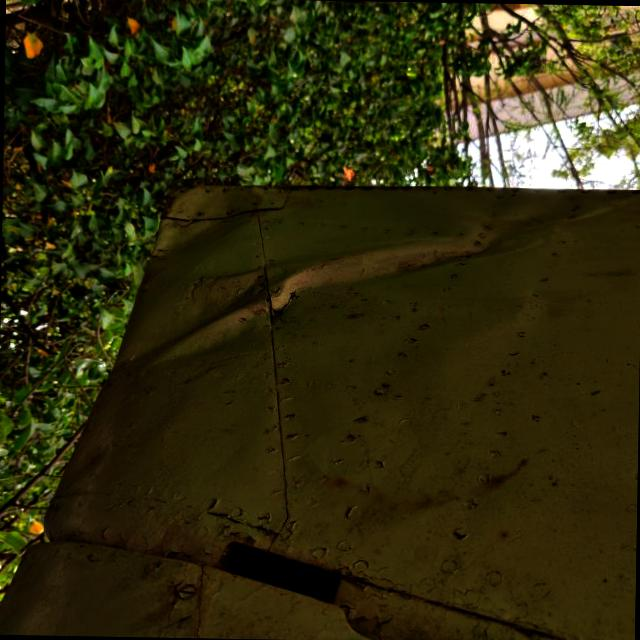crack: (266, 279, 309, 322)
dent: (105, 170, 566, 402), (144, 157, 278, 268)
